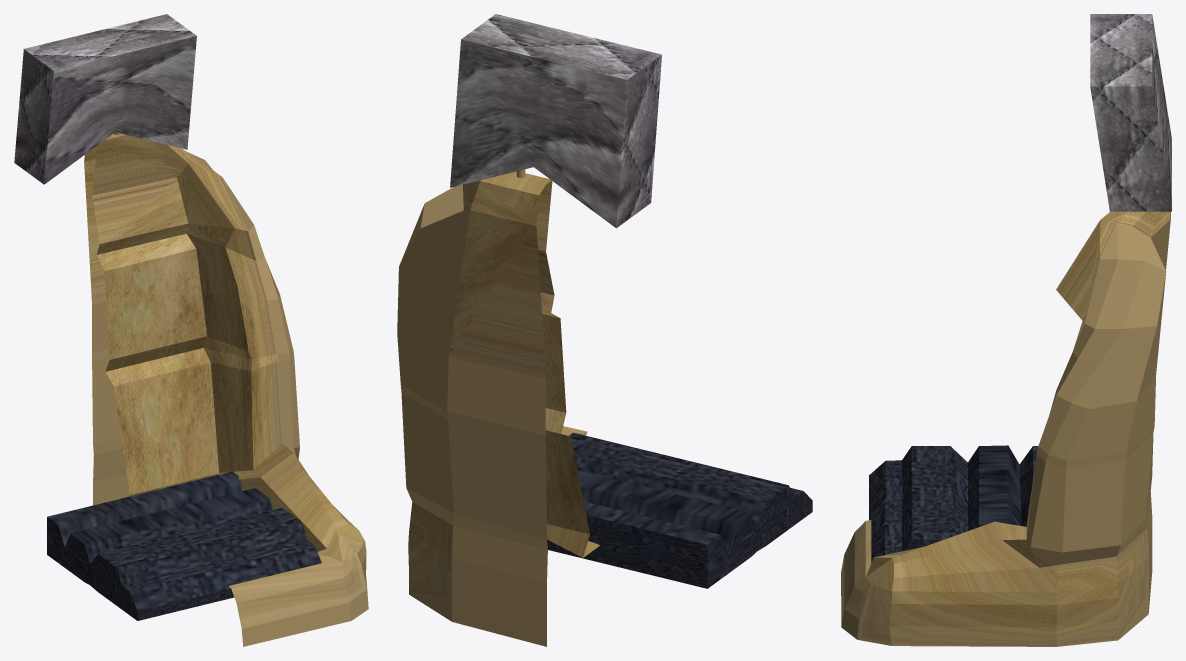
Rendered from ProectChair.gltf.
3 renders of one model, left to right at view 1: azimuth 30°, elevation 25°; view 2: azimuth 150°, elevation 25°; view 3: azimuth 270°, elevation 25°, orthographic. The views are drawn at different scales.
Parts seen in each view (by area): view 1: chair, seat, head; view 2: chair, head, seat; view 3: chair, seat, head.
Boxes of the visible parts, x1,y1,x2,y2 form: chair: (84, 132, 368, 646); seat: (47, 471, 321, 620); head: (14, 14, 196, 184); chair: (397, 169, 600, 646); head: (450, 14, 661, 228); seat: (547, 432, 812, 588); chair: (841, 211, 1170, 646); seat: (869, 445, 1038, 562); head: (1090, 14, 1171, 211).
Size of the model in its own units: 1.58 by 3.1 by 1.77.
Materials: 3 (3 with a texture image).
